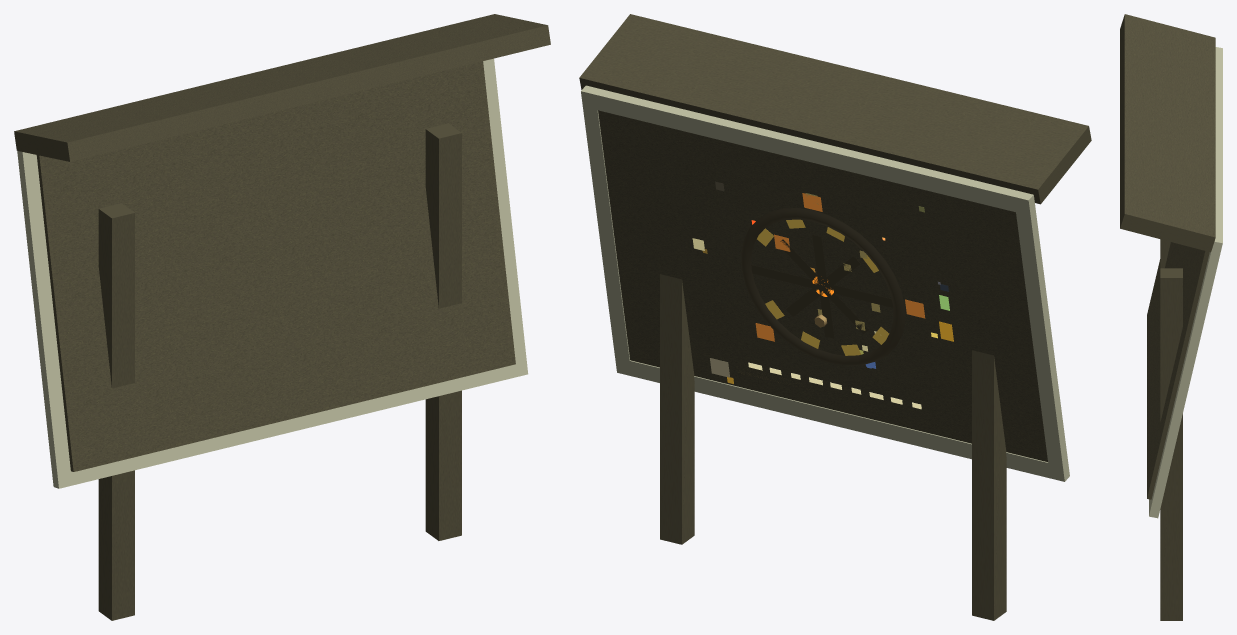
File: candidate.glb
3 renders of one model, left to right at view 1: azimuth 30°, elevation 25°; view 2: azimuth 150°, elevation 25°; view 3: azimuth 270°, elevation 25°, orthographic. The views are drawn at different scales.
Visible parts, largest first — view 1: mb3_0, mb3_1; view 2: mb3_0, mb3_1, mb3_6, mb3_8, mb3_9, mb3_7; view 3: mb3_0, mb3_1.
Part boxes in pixels (x1=…): mb3_0: x1=14, y1=14, x2=550, y2=620; mb3_1: x1=17, y1=58, x2=528, y2=488; mb3_0: x1=579, y1=14, x2=1091, y2=620; mb3_1: x1=581, y1=85, x2=1069, y2=481; mb3_6: x1=741, y1=208, x2=905, y2=365; mb3_8: x1=757, y1=219, x2=889, y2=355; mb3_9: x1=755, y1=193, x2=925, y2=341; mb3_7: x1=751, y1=265, x2=893, y2=307; mb3_0: x1=1120, y1=14, x2=1215, y2=620; mb3_1: x1=1149, y1=47, x2=1222, y2=518.
Bounding box in the file's own units: 2.5 × 2.53 × 0.5431.
26 materials, 1 textured.
